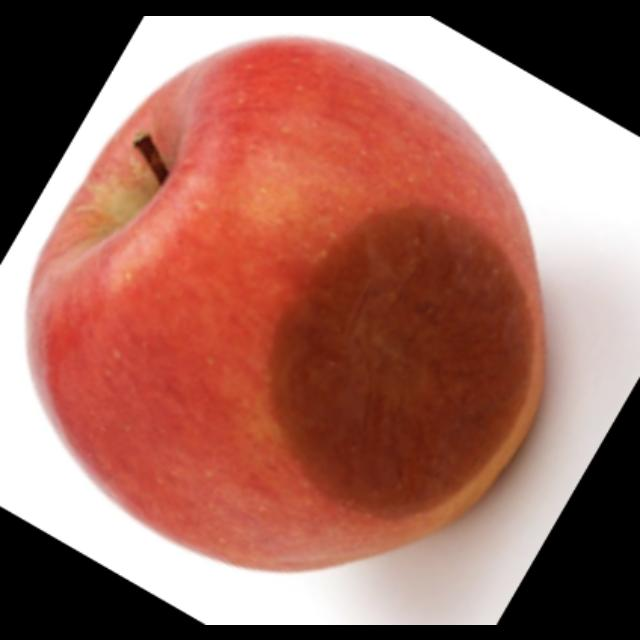Apel Tidak Segar: (20, 31, 552, 580)
